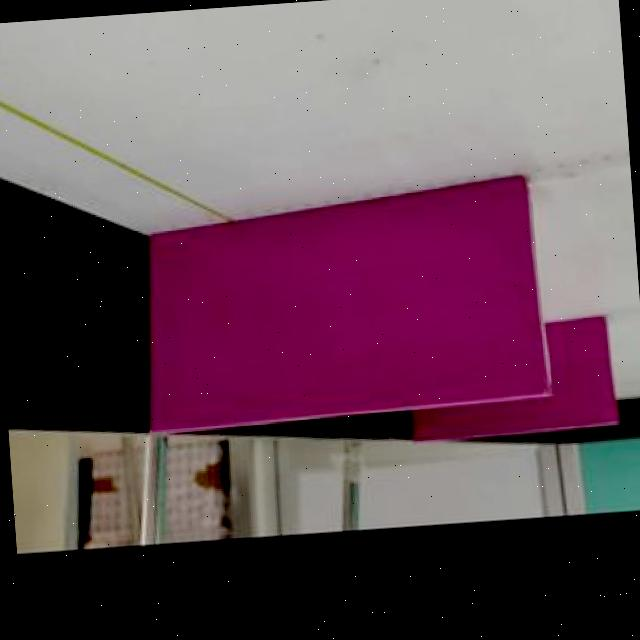xparking: (142, 173, 546, 428), (550, 314, 615, 430)
